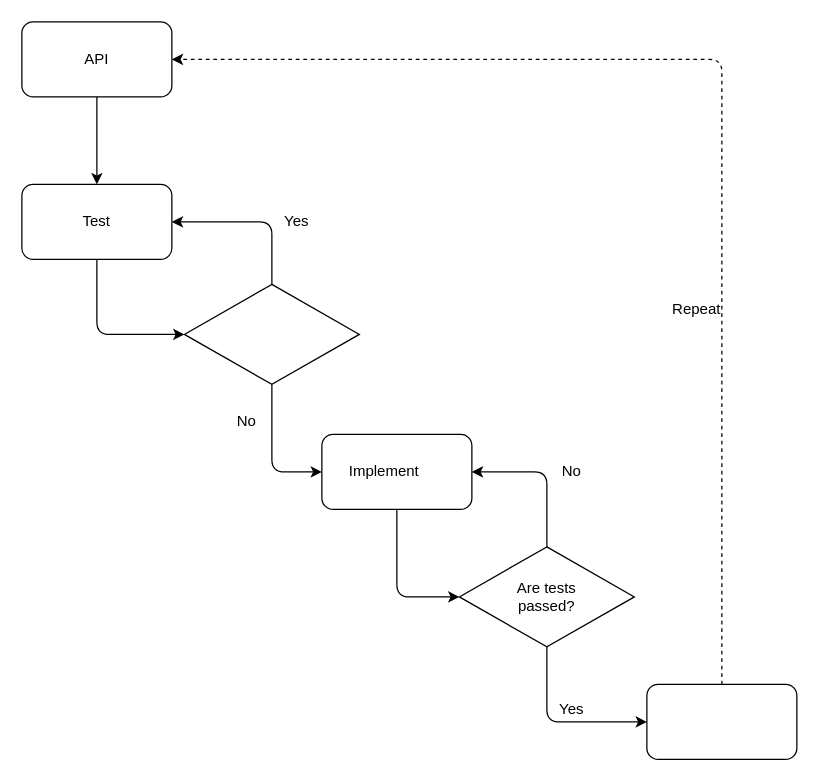
The diagram is 819 pixels wide and 781 high, and some of its shapes have lost their labels. Here are the shapes that lost their labels. From the top down, the box of each, then its label:
(183, 283, 359, 384): Is test passed?
(646, 683, 797, 759): Clean code
